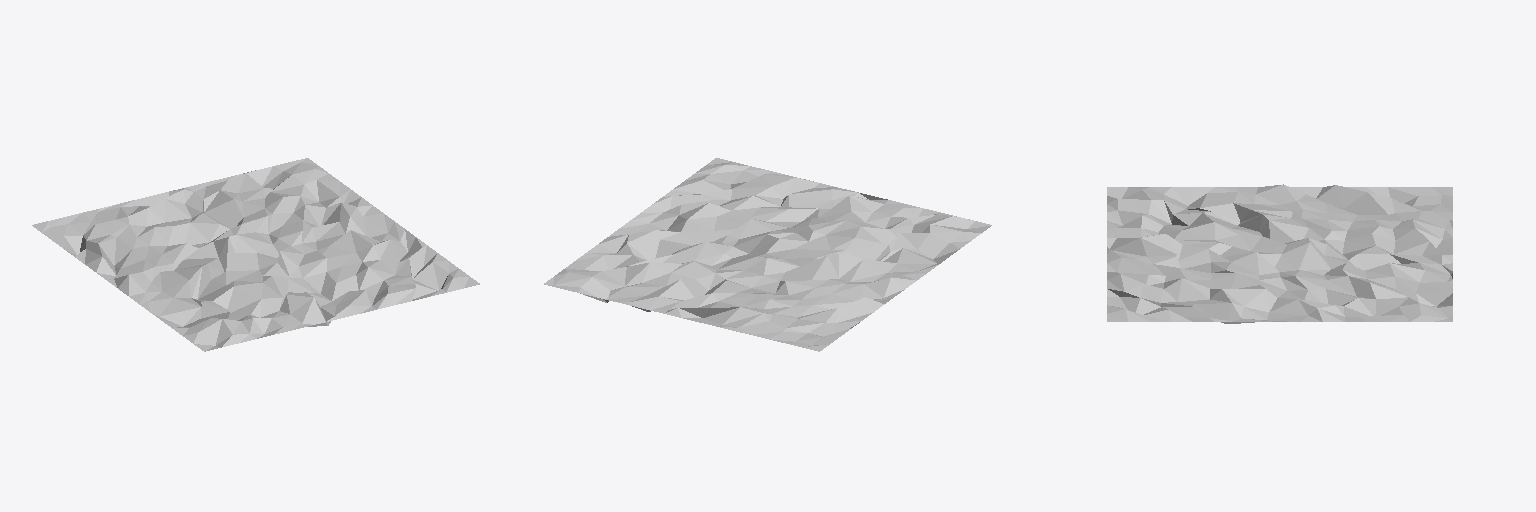
File: Garbage heap_heap.obj
The picture shows the model from 3 angles: view 1: azimuth 30°, elevation 25°; view 2: azimuth 150°, elevation 25°; view 3: azimuth 270°, elevation 25°; orthographic projection.
Visible parts, largest first — view 1: Trash_Plane.003; view 2: Trash_Plane.003; view 3: Trash_Plane.003.
Boxes of the visible parts, x1=… form: Trash_Plane.003: x1=32, y1=158, x2=479, y2=351; Trash_Plane.003: x1=544, y1=158, x2=991, y2=351; Trash_Plane.003: x1=1107, y1=184, x2=1452, y2=323.
Size of the model in its own units: 1.79 by 0.1548 by 1.94.